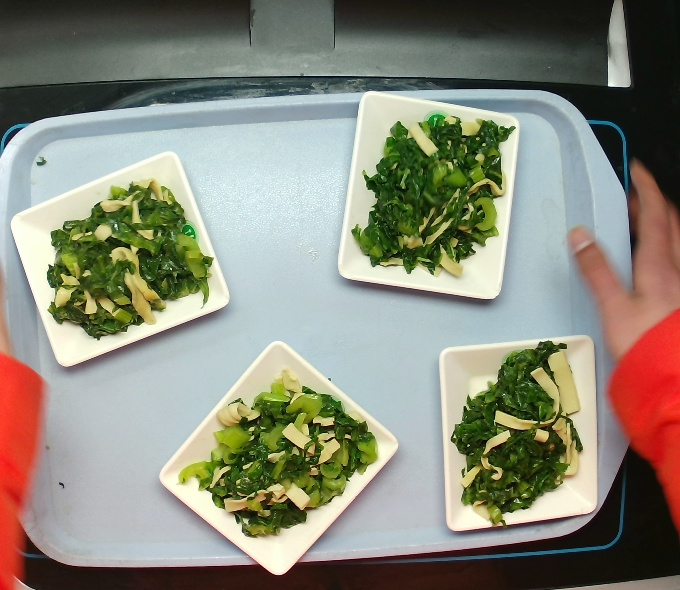wcq-QingCaiChaoQianZhang: (444, 325, 592, 542), (185, 377, 380, 533), (40, 172, 212, 348), (356, 112, 501, 273)
